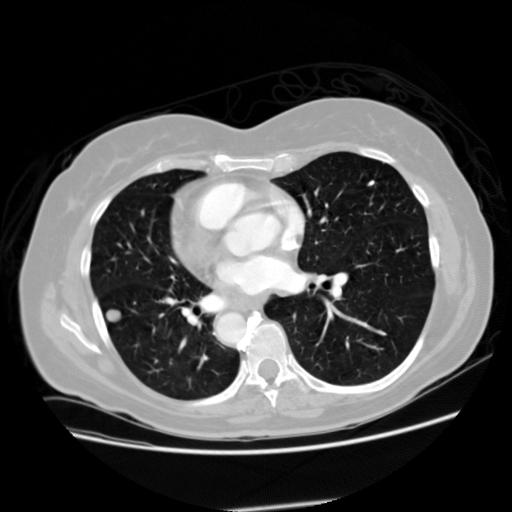nodule: (106, 304, 128, 326)
